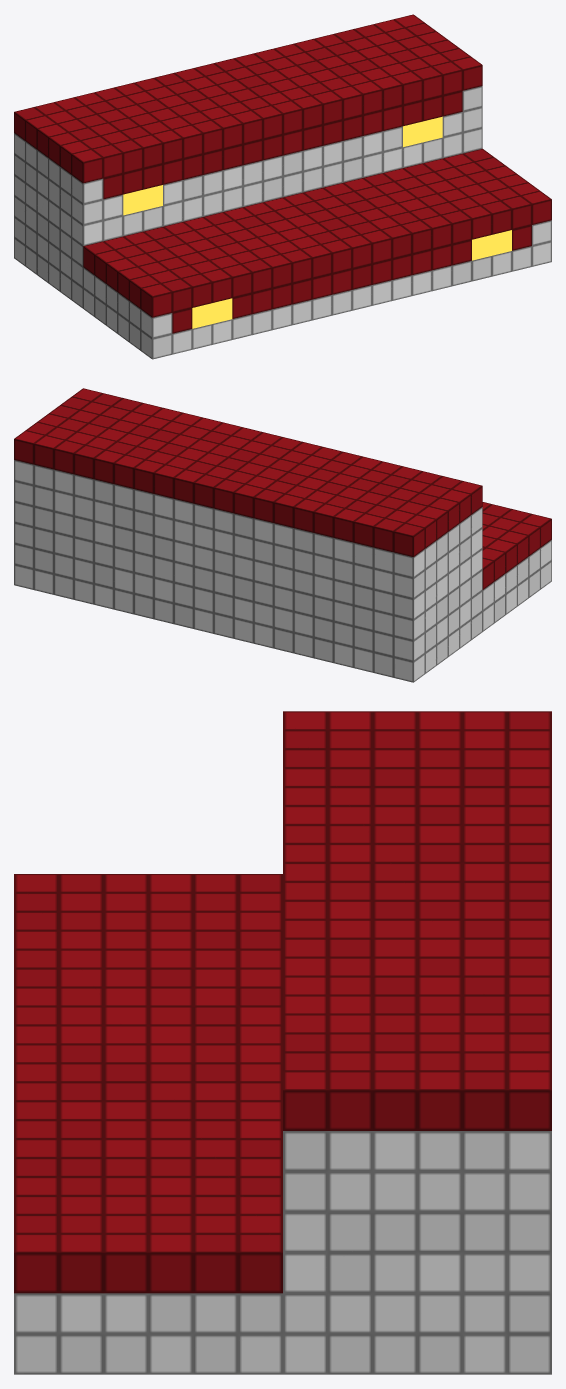
File: stage_steps.glb
3 views of the same model, one above another, from view 1: azimuth 30°, elevation 25°; view 2: azimuth 150°, elevation 25°; view 3: azimuth 270°, elevation 25° (orthographic). The views are drawn at different scales.
Visible parts, largest first — view 1: stage_steps; view 2: stage_steps; view 3: stage_steps.
Part boxes in pixels (box(x1,y1,x2,y2)): stage_steps: box(14, 14, 551, 359); stage_steps: box(14, 388, 551, 682); stage_steps: box(14, 711, 551, 1374).
Size of the model in its own units: 1 by 0.35 by 0.6.
Materials: 4 (3 with a texture image).
